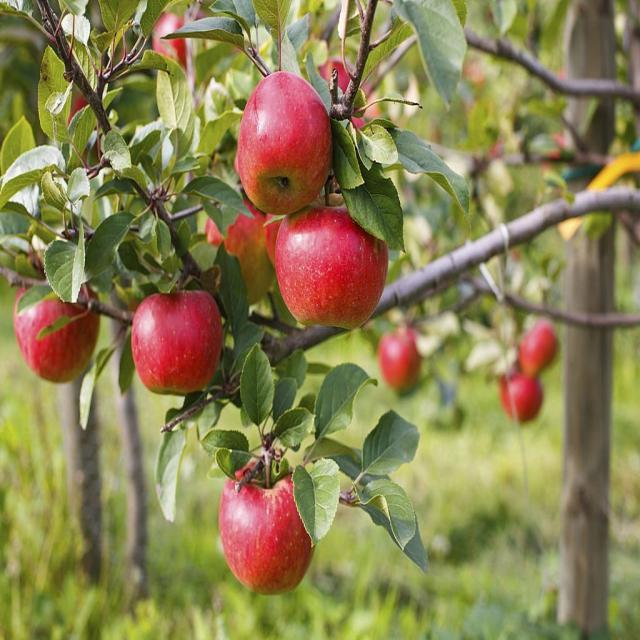Red Apple: (241, 74, 331, 219), (285, 206, 383, 337), (225, 467, 316, 600), (139, 288, 222, 407), (17, 285, 94, 382), (508, 373, 543, 417), (386, 331, 416, 379), (525, 322, 555, 368), (157, 21, 182, 55)
